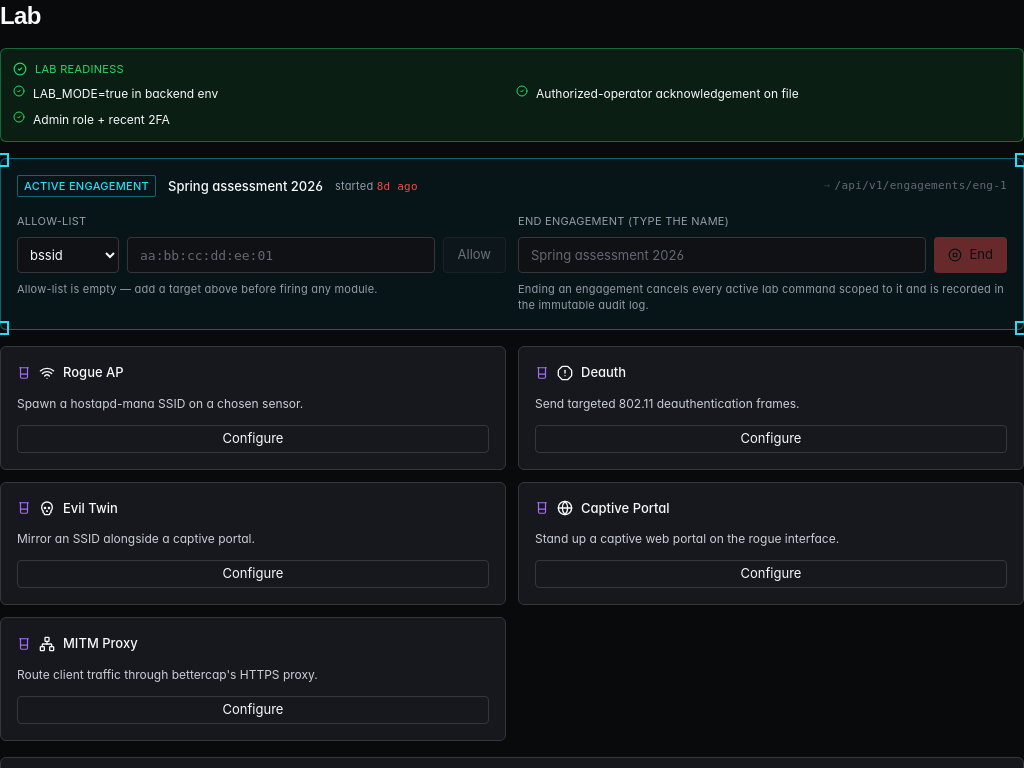
Test case: LabView › opens the start dialog when a module card's Configure button is clicked
Expected: the element with test id "engagement-panel" is shown, [0,158,1023,330]
Click the button with aria-label "configure deauth": (771,438) [535,424,1007,452]
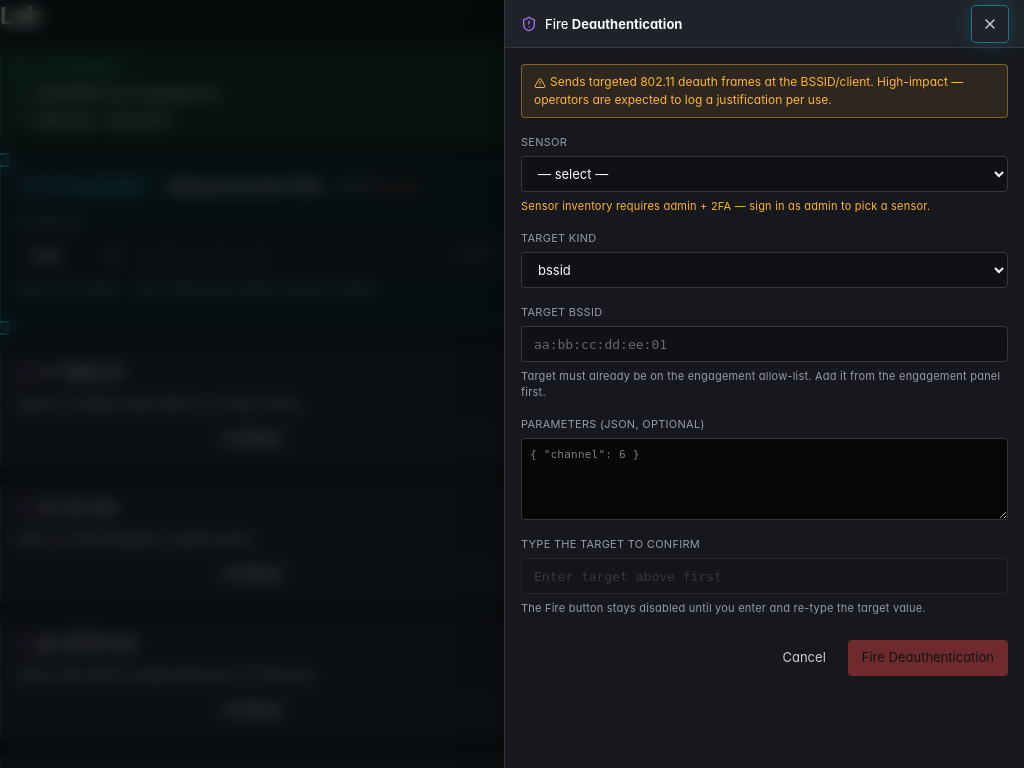
Expected: the form with test id "start-lab-module-form" is shown, [521,64,1008,676]
Expected: the dialog shows "Fire", [545,16,572,32]
